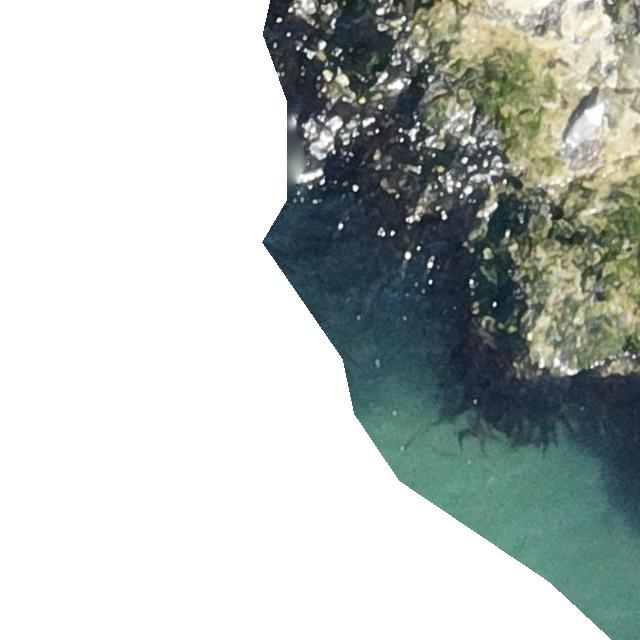umineko: (564, 102, 606, 154)
